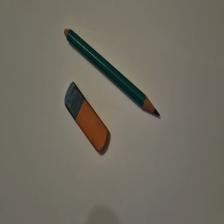eraser: (66, 82, 111, 153)
pencil: (65, 29, 161, 117)
